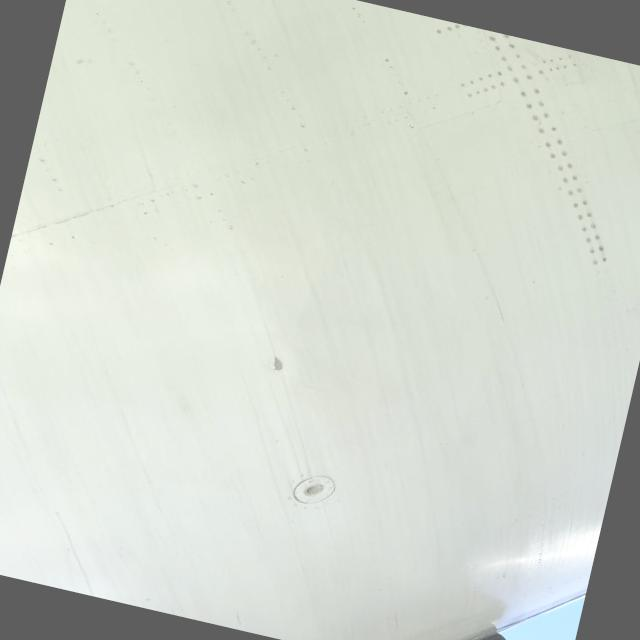crack: (474, 288, 512, 322), (251, 349, 285, 386)
